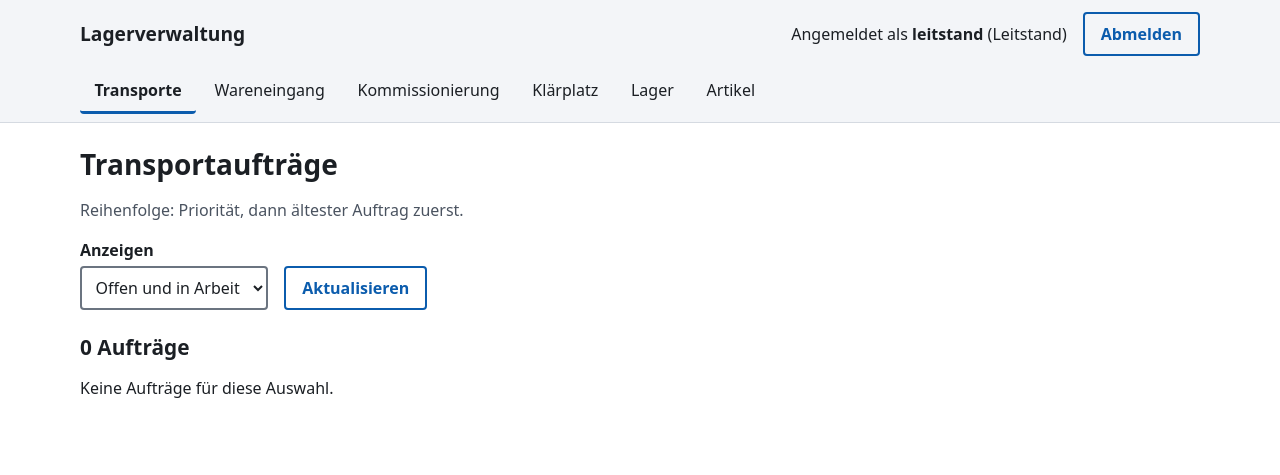
Scenario: Abmelden
What coordinates should you click on to do the following:
click the button "Abmelden"
I would click on:
 (1141, 34)
Its box is [1083,12,1200,56].
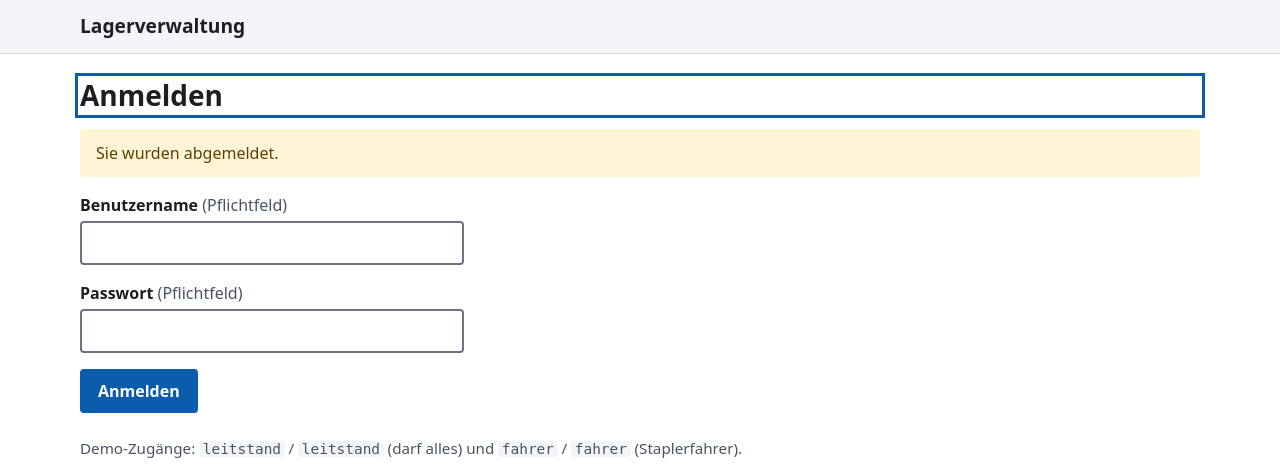
expect the heading reads "Anmelden": met, box [80,76,223,114]
expect the text "Sie wurden abgemeldet." is shown: met, box [80,129,1200,177]
expect the navigation bar is gone: met
